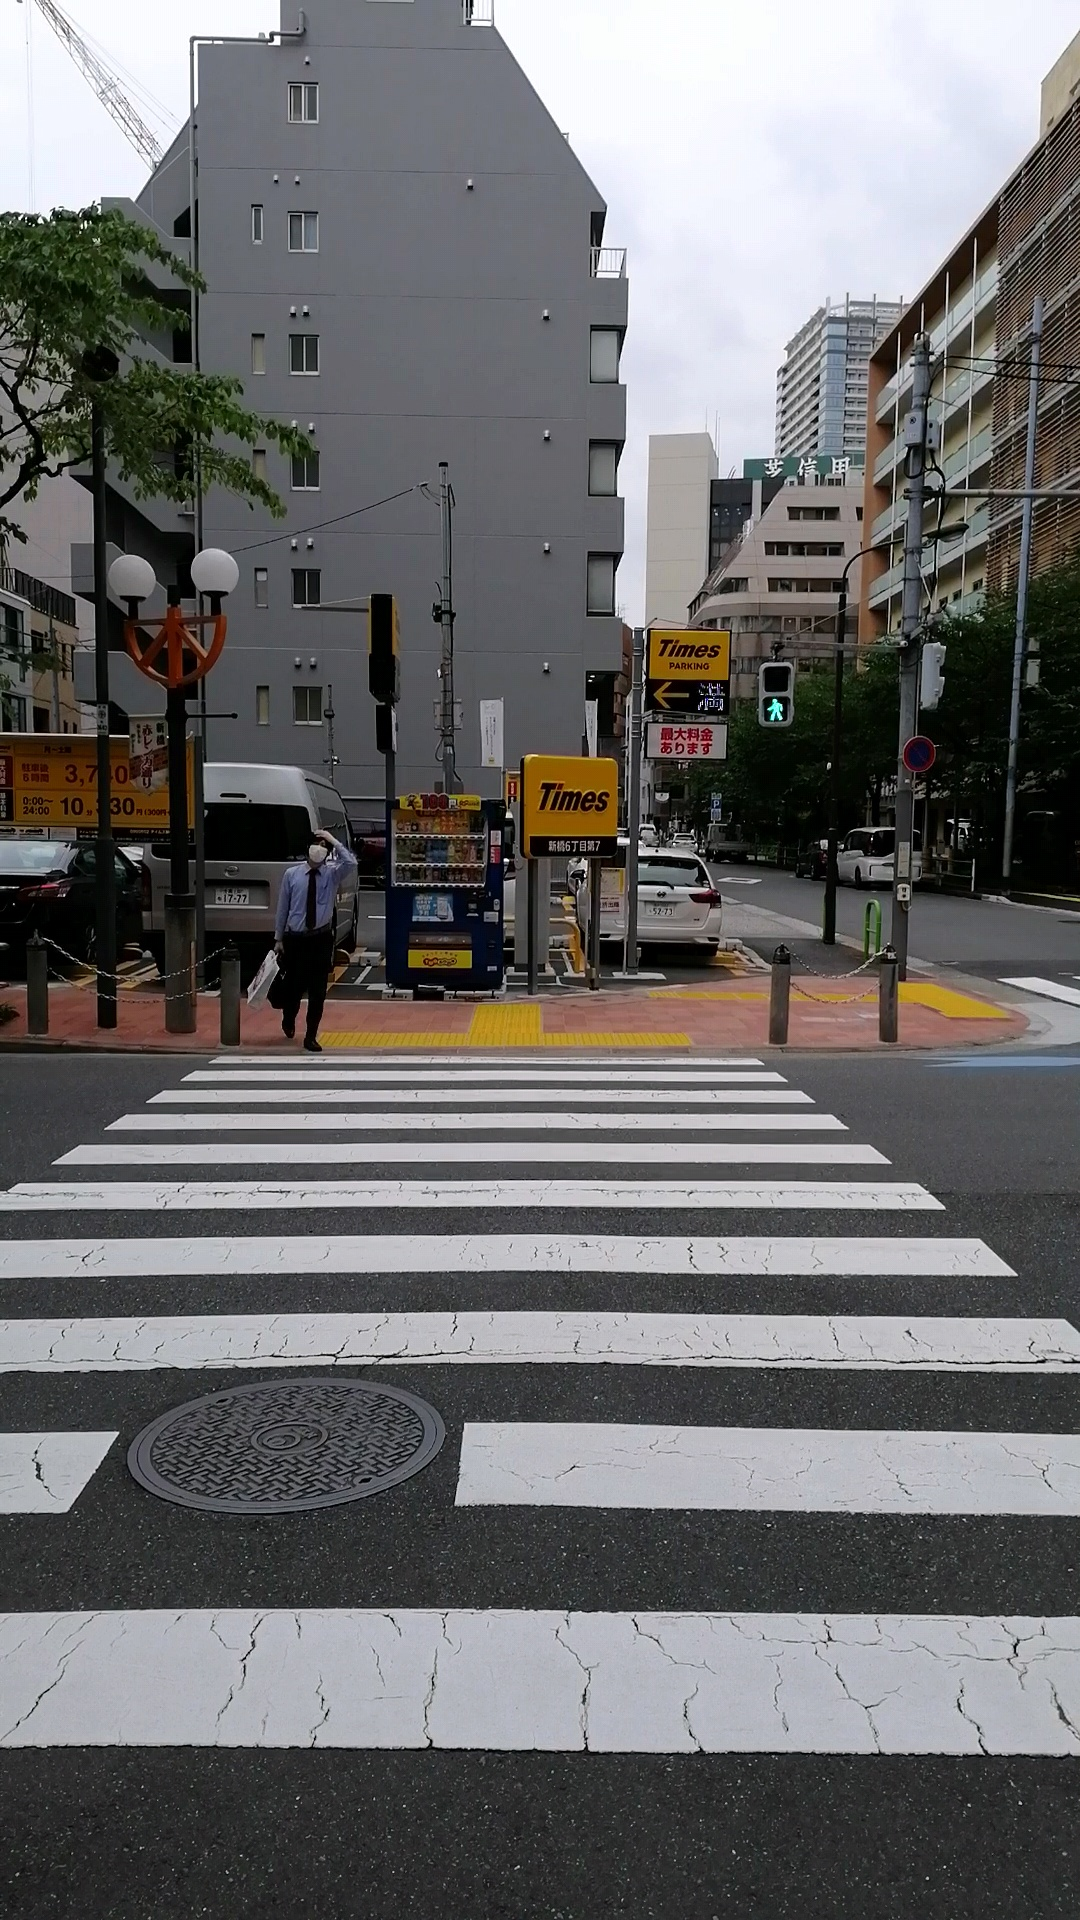green: (757, 659, 794, 727)
